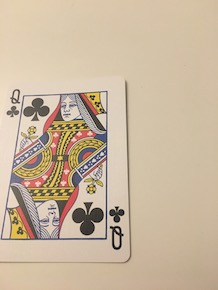QueenOfClubs: (1, 73, 132, 265)
